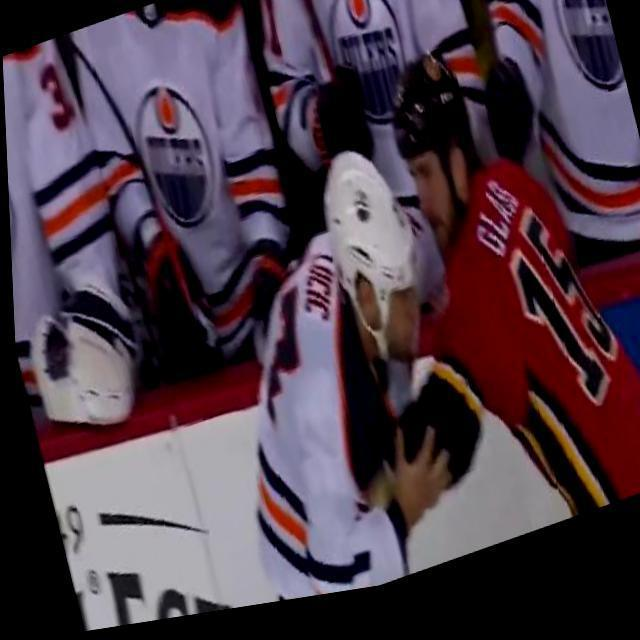fight: (196, 16, 640, 616)
